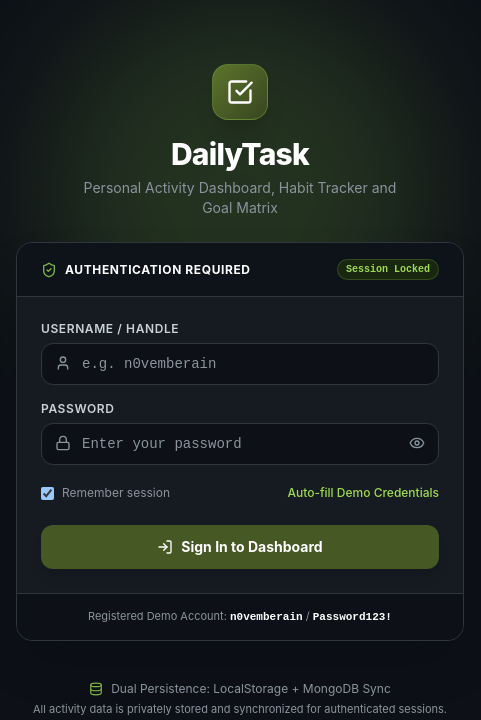
Test: LoginView Full-Screen Authentication Gate › displays error on incorrect login attempt
Type "unknown_user" into the field with placeholder "e.g. n0vemberain" at (240, 364), box [41,343,439,385]
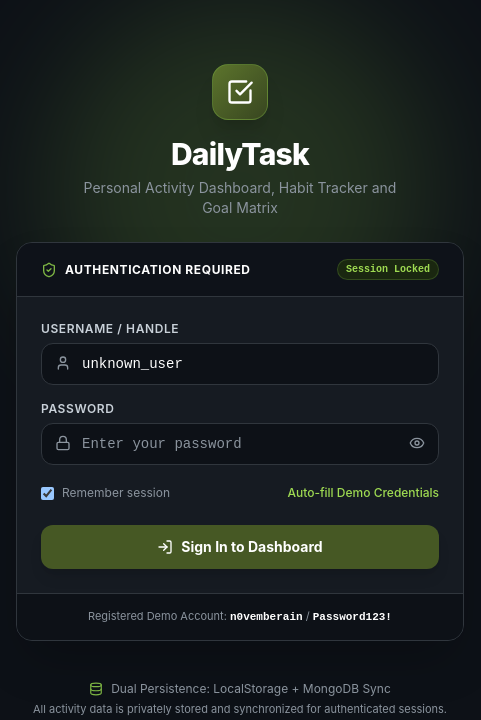
Type "bad_password" into the password field with placeholder "Enter your password" at (240, 444), box [41,423,439,465]
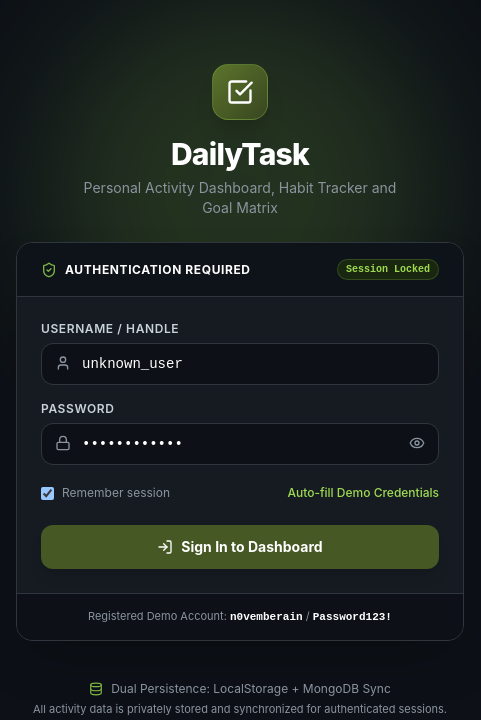
Click the button "Sign In to Dashboard" at (240, 547), box [41,525,439,569]
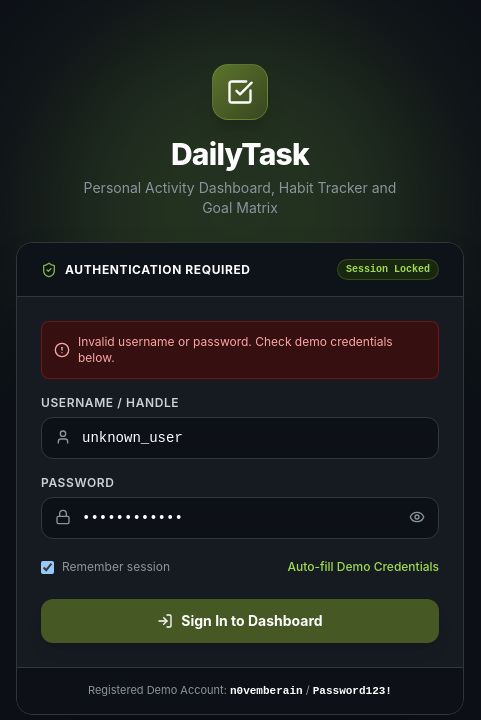
Now the text "Invalid username or password. Check demo credentials below." is shown, box [78,334,426,366]
